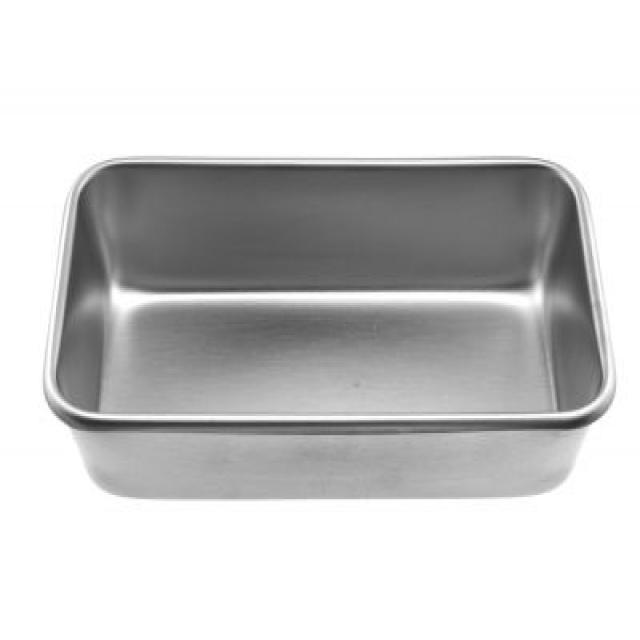Catheter Tray: (44, 143, 620, 508)
